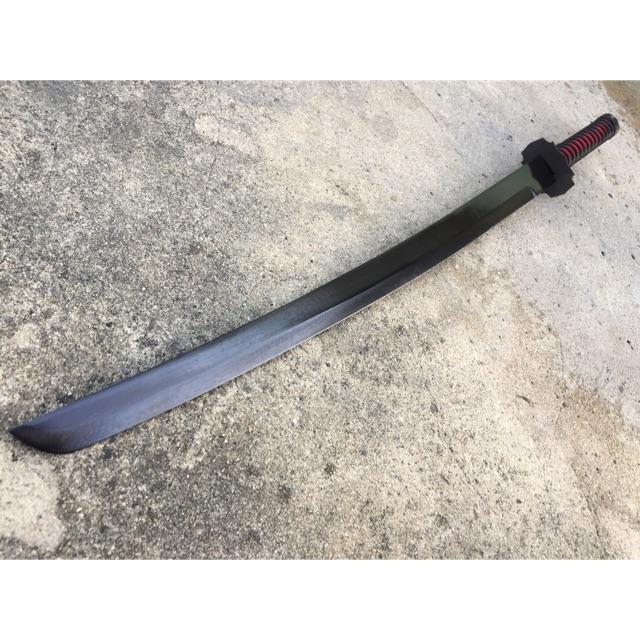long sword: (7, 109, 623, 452)
